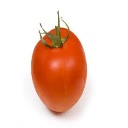tomato: (32, 28, 88, 112)
